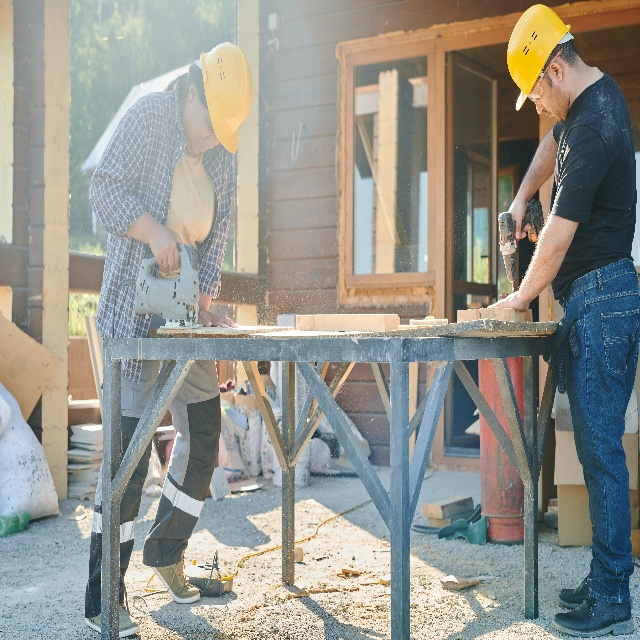Gafas: (527, 49, 561, 103)
Sin_guantes: (150, 222, 183, 271), (509, 193, 528, 241), (488, 292, 531, 313), (197, 308, 239, 328)
